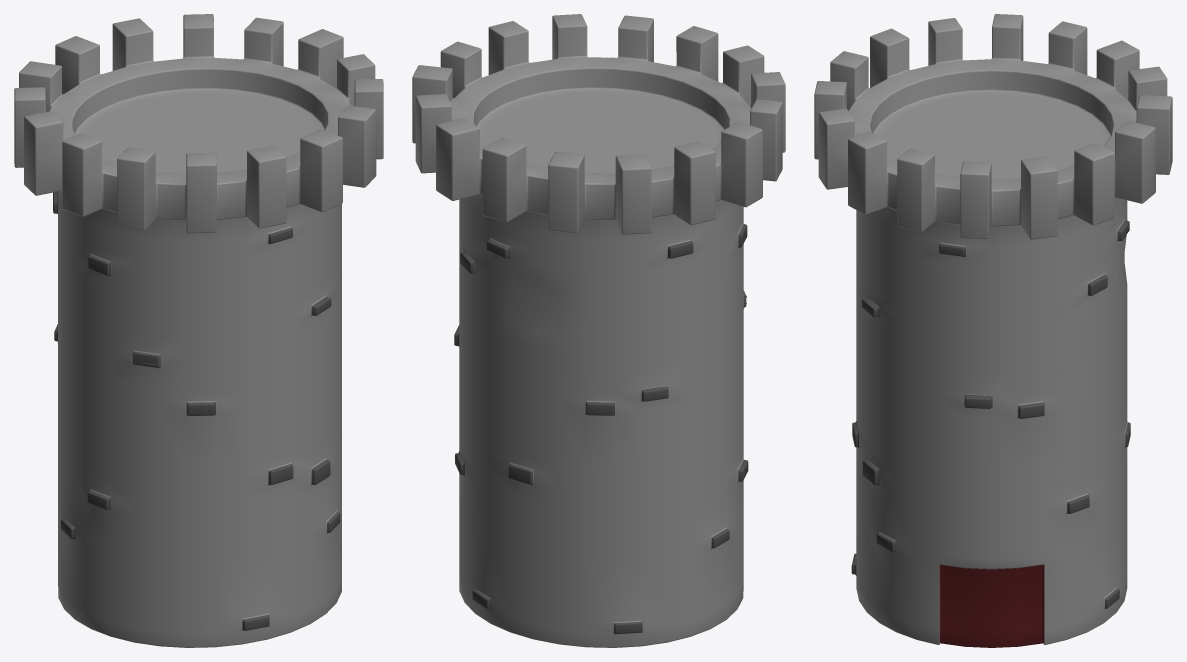
File: Librairie.fbx
3 renders of one model, left to right at view 1: azimuth 30°, elevation 25°; view 2: azimuth 150°, elevation 25°; view 3: azimuth 270°, elevation 25°, orthographic.
Visible parts, largest first — view 1: Tour Musée; view 2: Tour Musée; view 3: Tour Musée.
Boxes of the visible parts, x1=… form: Tour Musée: x1=14, y1=14, x2=383, y2=647; Tour Musée: x1=412, y1=14, x2=785, y2=647; Tour Musée: x1=814, y1=14, x2=1172, y2=647.
Size of the model in its own units: 151 by 222 by 144.
